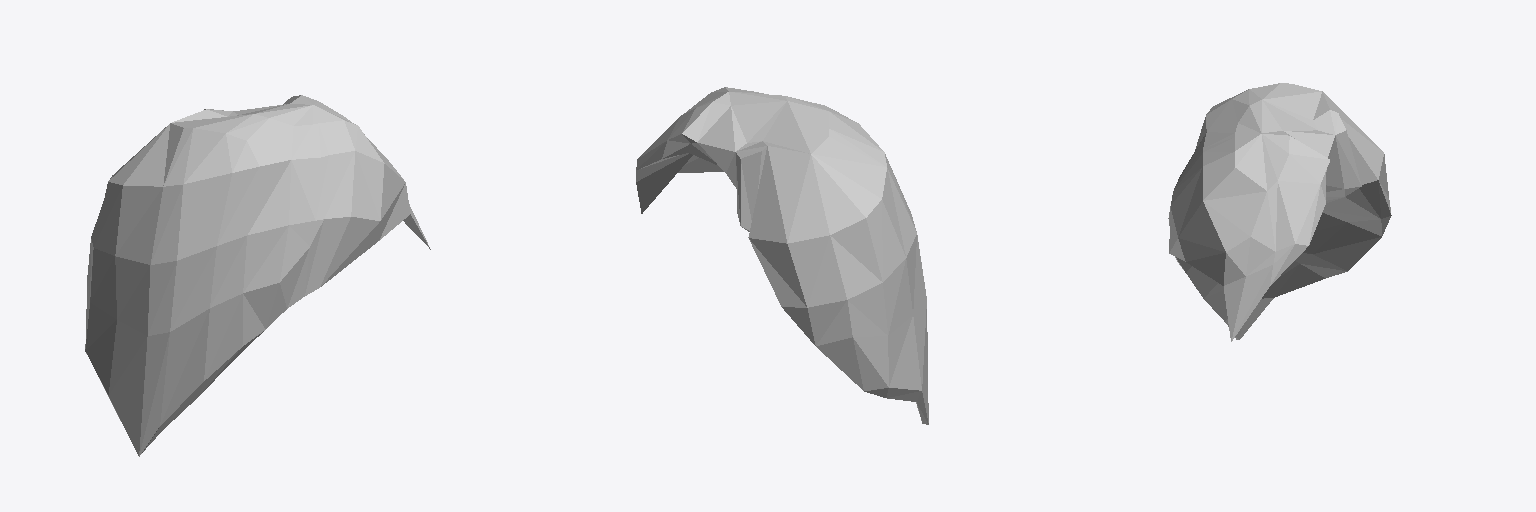
File: foie_GF_avec_point2.obj
3 views of the same model, side by side, from view 1: azimuth 30°, elevation 25°; view 2: azimuth 150°, elevation 25°; view 3: azimuth 270°, elevation 25° (orthographic).
Visible parts, largest first — view 1: 1_Visual; view 2: 1_Visual; view 3: 1_Visual.
Boxes of the visible parts, <box> form: 1_Visual: <box>85,95,430,456</box>; 1_Visual: <box>636,87,928,424</box>; 1_Visual: <box>1168,83,1391,341</box>.
Size of the model in its own units: 6.74 by 6.46 by 4.32.